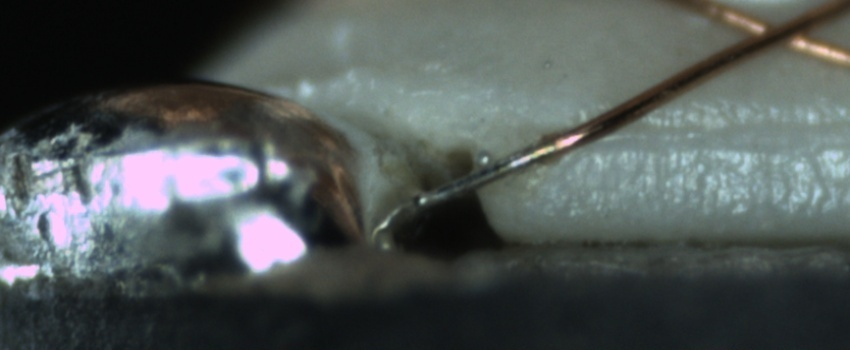CL: (721, 3, 841, 58)
DL: (586, 99, 849, 164)
TS: (419, 149, 532, 210)
